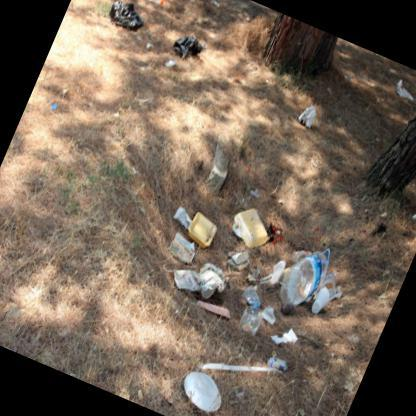Garbage: (94, 178, 359, 415), (225, 226, 346, 348), (174, 315, 298, 408), (144, 200, 224, 290), (166, 246, 240, 336), (218, 192, 290, 278), (218, 296, 303, 356), (180, 132, 248, 195), (166, 356, 235, 415), (95, 0, 147, 47), (163, 26, 209, 70), (381, 72, 415, 109), (291, 100, 318, 129), (136, 0, 168, 9), (409, 201, 415, 234)
